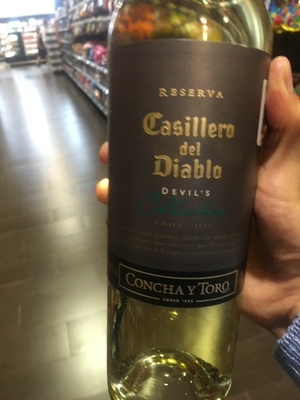casillero del diablo devils collection verde: (101, 1, 261, 399)
